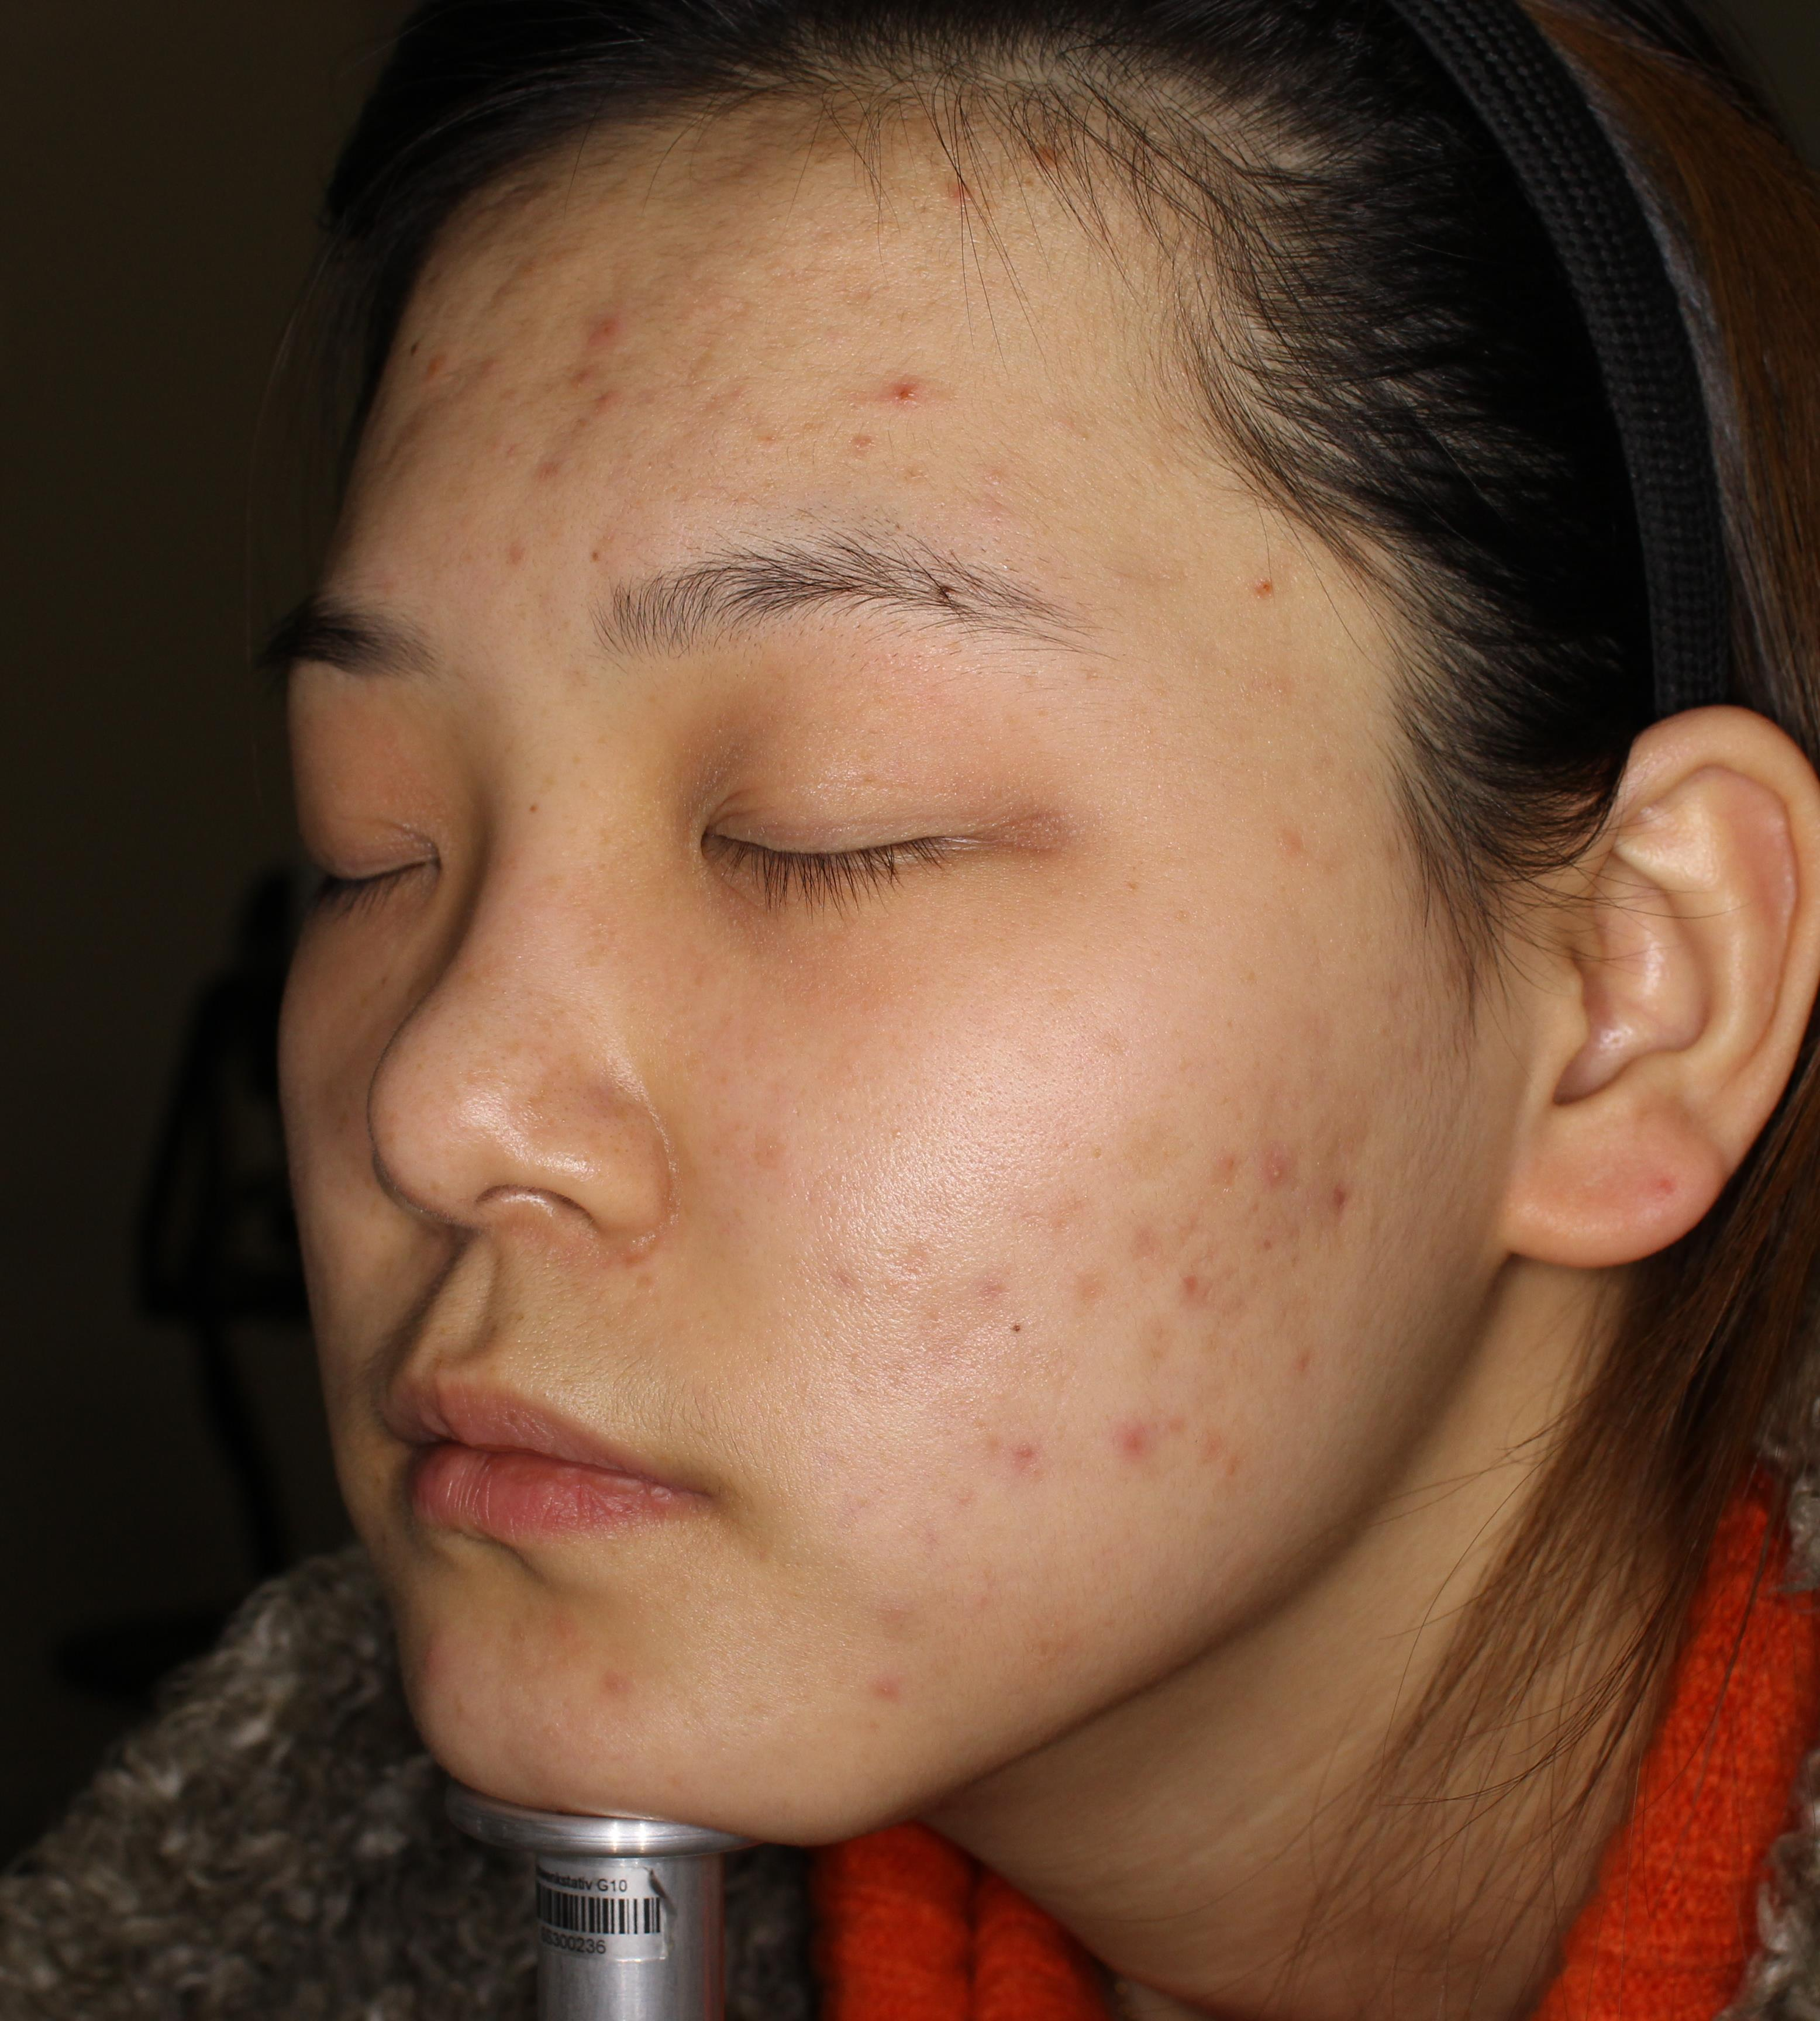fore: (1166, 1104, 1296, 1208), (1126, 1231, 1224, 1326), (1094, 1378, 1184, 1482), (543, 356, 643, 434), (1198, 1375, 1260, 1496), (973, 1410, 1059, 1496), (539, 295, 652, 356), (1042, 1240, 1126, 1320), (1305, 1155, 1381, 1236), (929, 1245, 1014, 1315), (870, 1586, 961, 1649)
